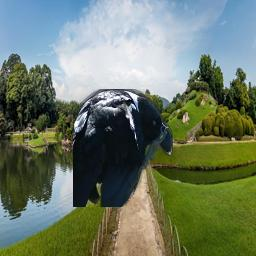Crow: (73, 89, 173, 207)
